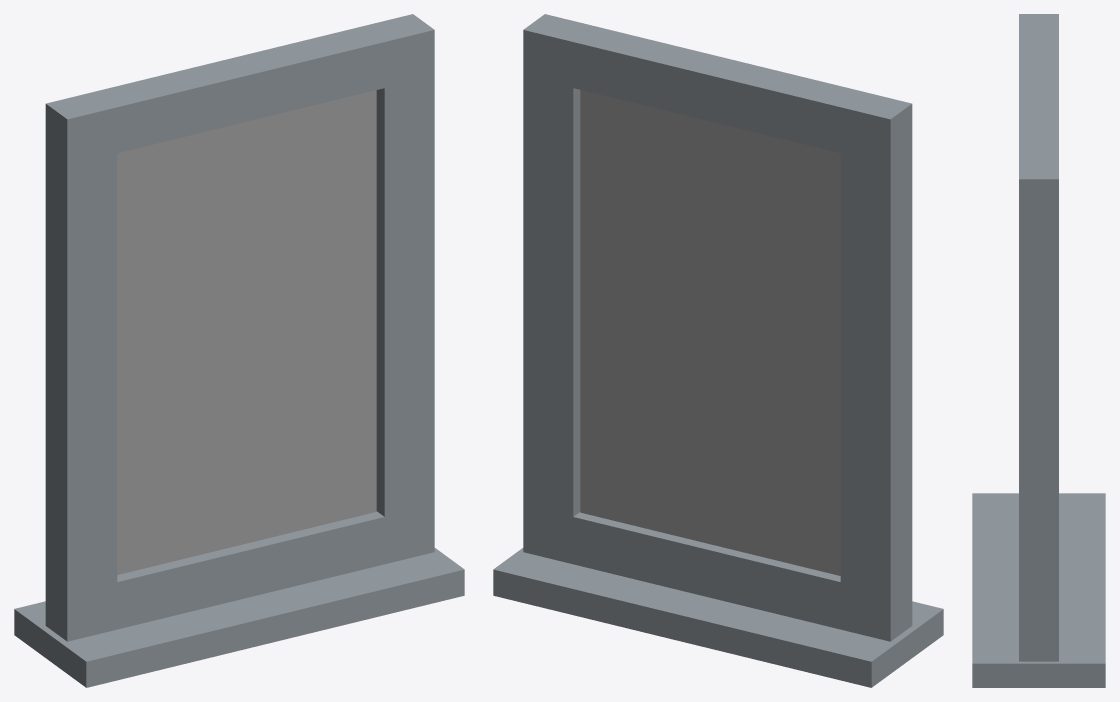
The model's file is Window_4A.fbx.
The picture shows the model from 3 angles, left to right: view 1: azimuth 30°, elevation 25°; view 2: azimuth 150°, elevation 25°; view 3: azimuth 270°, elevation 25°; orthographic projection. The views are drawn at different scales.
Parts seen in each view (by area): view 1: polySurface1611, Window_Glass_1; view 2: polySurface1611, Window_Glass_1; view 3: polySurface1611.
Part boxes in pixels (bbox=[...]): polySurface1611: bbox=[14, 14, 464, 687]; Window_Glass_1: bbox=[117, 90, 376, 574]; polySurface1611: bbox=[493, 14, 943, 687]; Window_Glass_1: bbox=[580, 90, 840, 575]; polySurface1611: bbox=[972, 14, 1105, 687].
Bounding box in the file's own units: 1.51 × 2.09 × 0.5.
2 materials, 1 textured.
